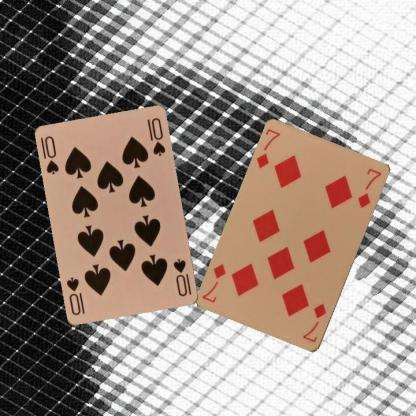10s: (171, 256, 193, 298), (42, 134, 61, 176)
7d: (254, 126, 283, 170), (300, 300, 327, 344)
